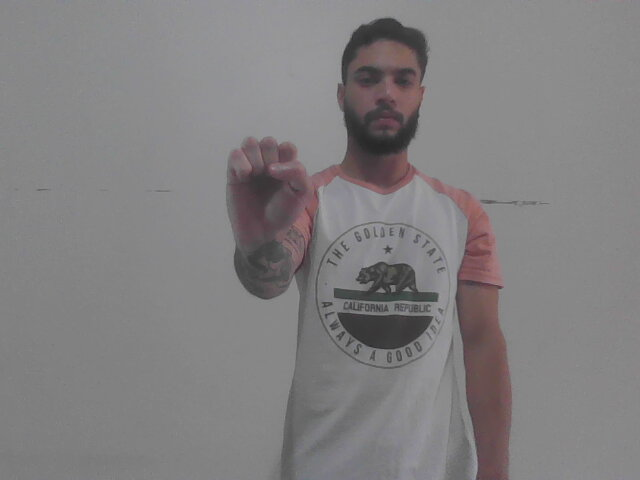s: (210, 130, 314, 257)
